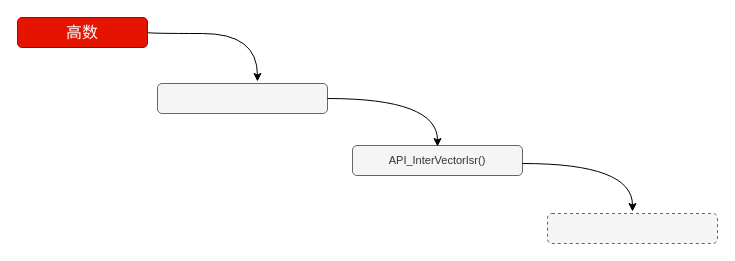
The diagram is 735 pixels wide and 261 high, and some of its shapes have lost their labels. The shapes that lost their labels are listed below. From the top down, each one's box as (x1, y1, x2, y2) in pixels, then its label:
(156, 82, 328, 114): bspIntHandle()
(546, 212, 718, 244): INTER_VECTOR_SVC()
